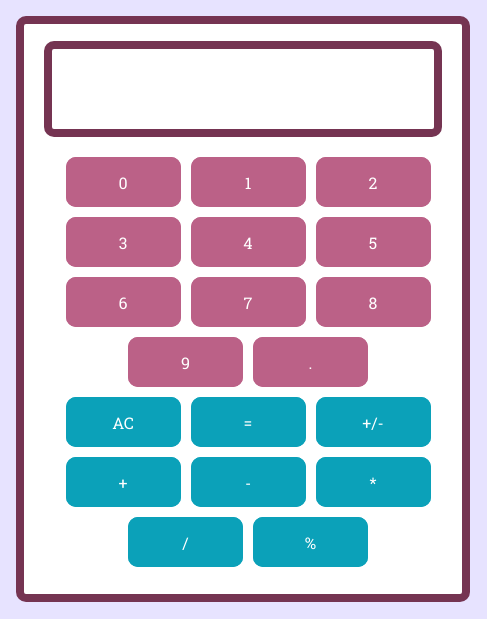
mod function
The width and height of the screenshot is (487, 619).
Click the button "8" at (373, 302), box [316, 277, 430, 327]
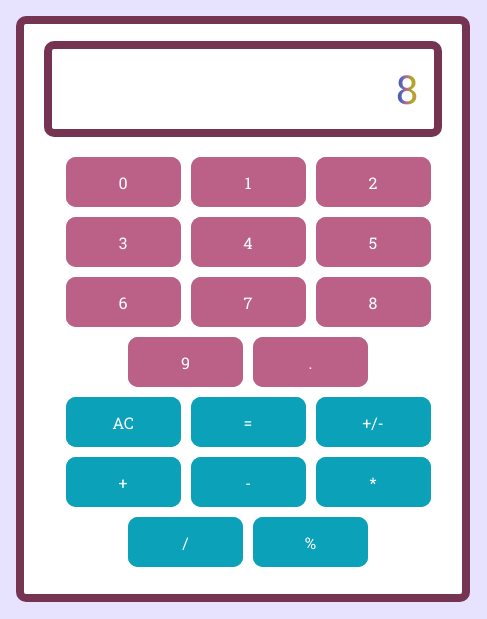
Click the button "0" at (123, 182), box [66, 157, 180, 207]
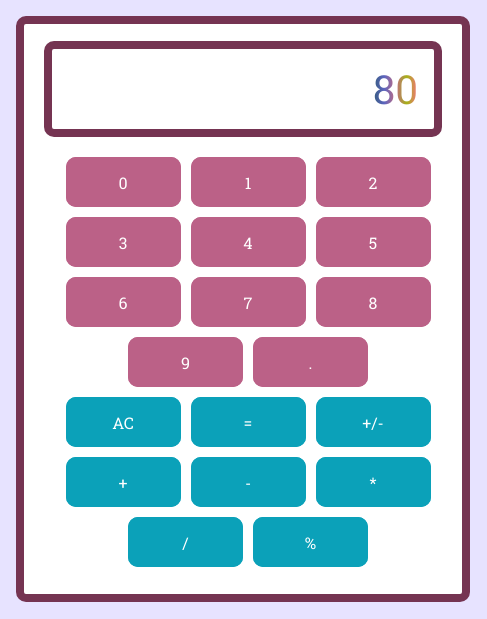
Click the button "%" at (310, 542), box [253, 517, 368, 567]
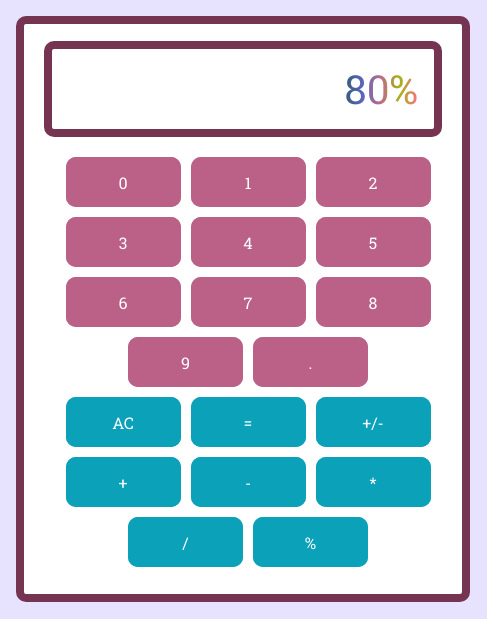
Click the button "3" at (123, 242), box [66, 217, 180, 267]
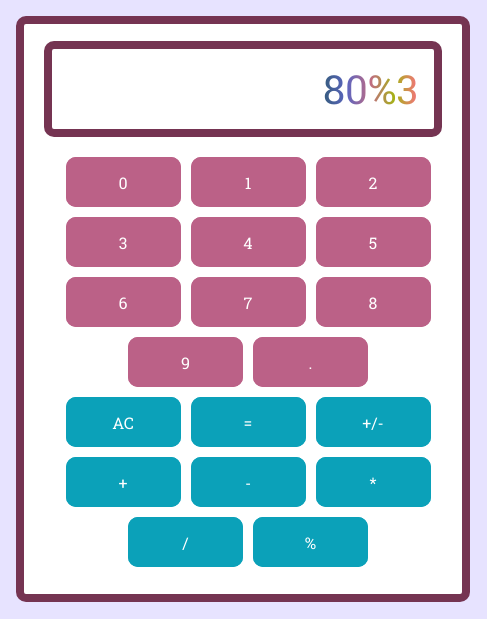
Click the button "=" at (248, 422), box [190, 397, 306, 447]
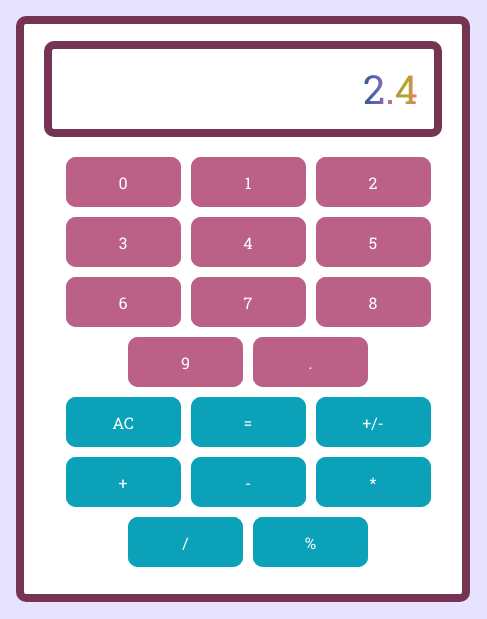
expect the element with test id "output" reads "2.4": met, box [363, 62, 418, 115]
